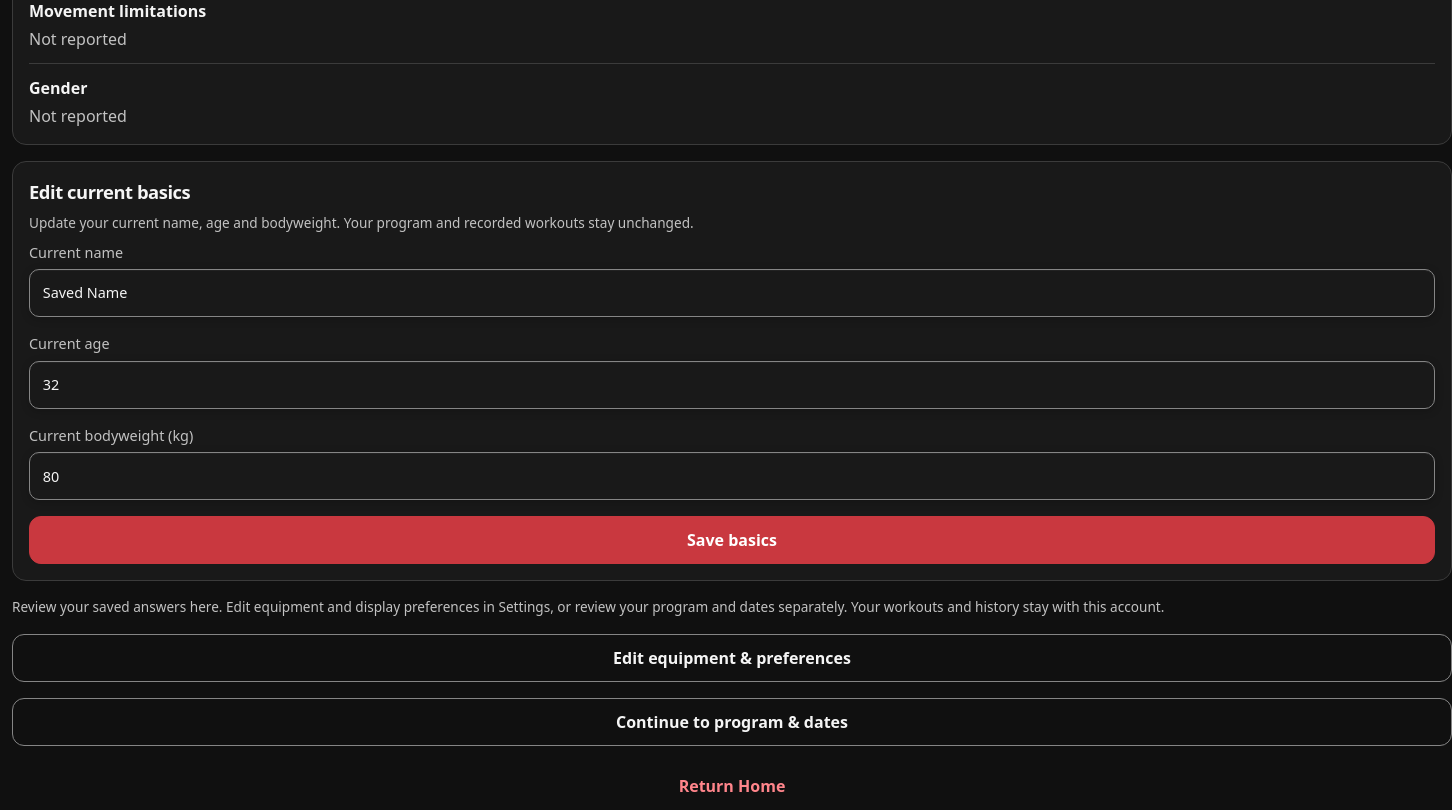
Test: slow save shows pending feedback and prevents duplicate submits
(page scrolled)
Click the button "Save basics": {"x": 732, "y": 540} [29,516,1435,564]
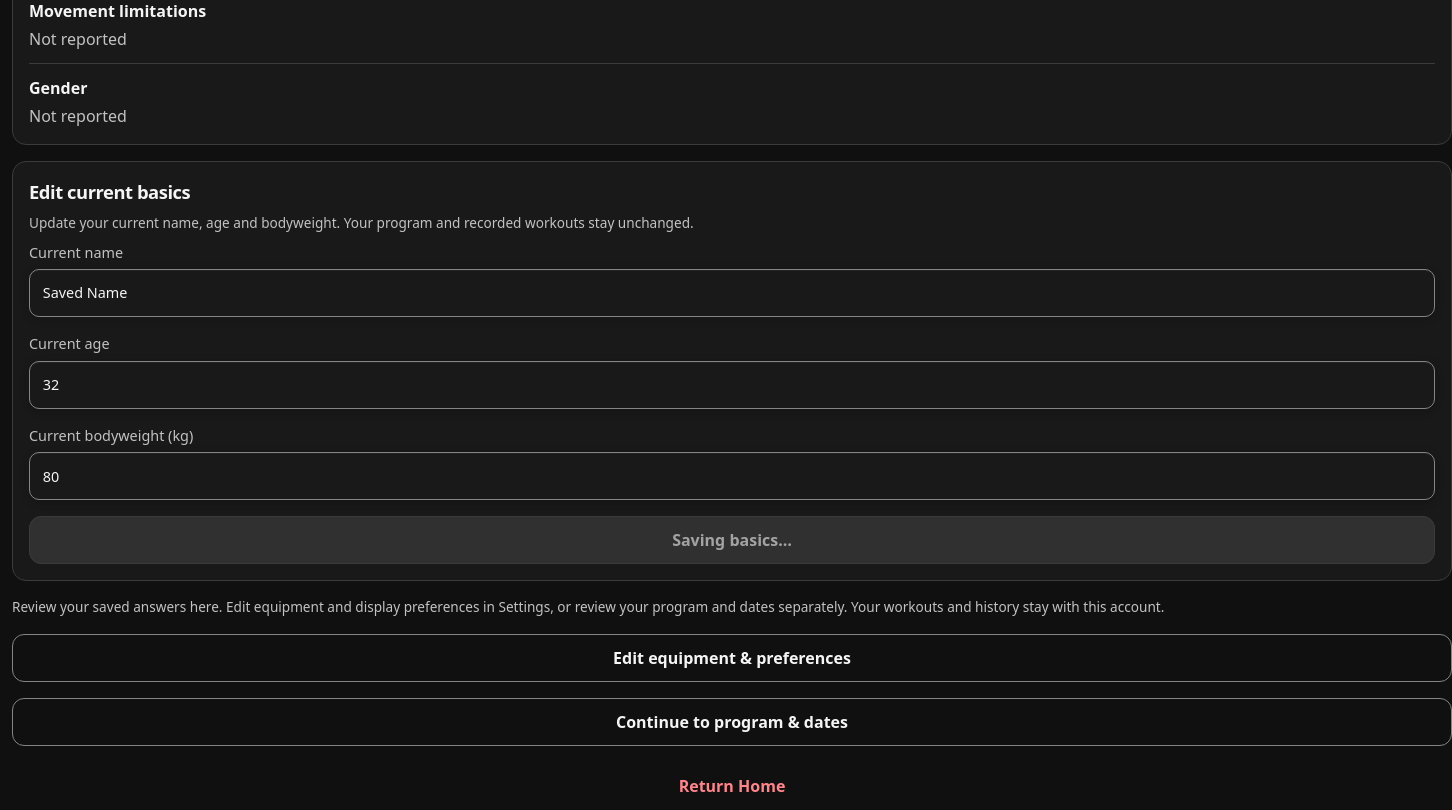
Expected: the button "Saving basics…" is disabled, [29,516,1435,564]
Submit the form named "Edit current basics", box [29,242,1435,564]
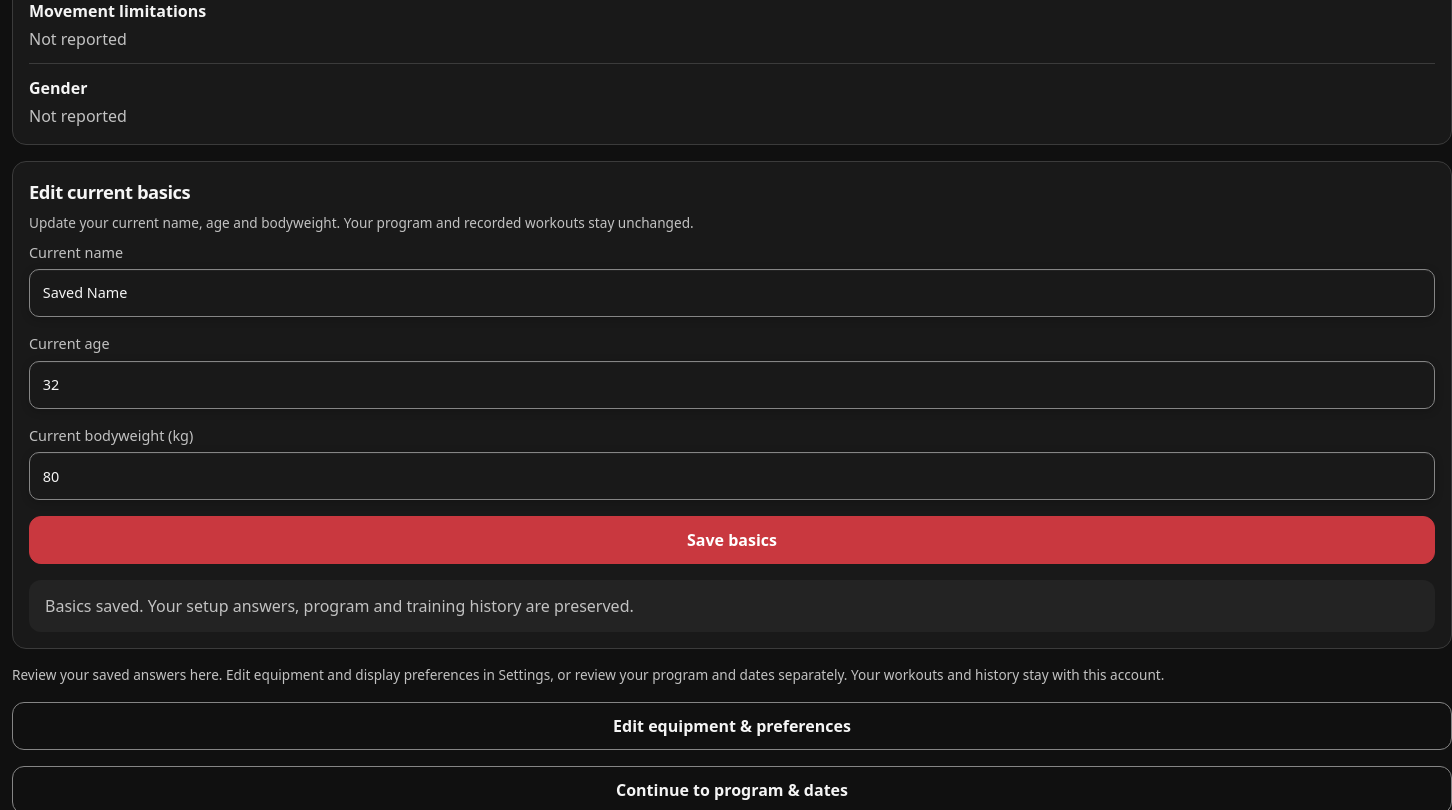
Expected: the text "Basics saved. Your setup answers, program and training history are preserved." is shown, [29,580,1435,632]
